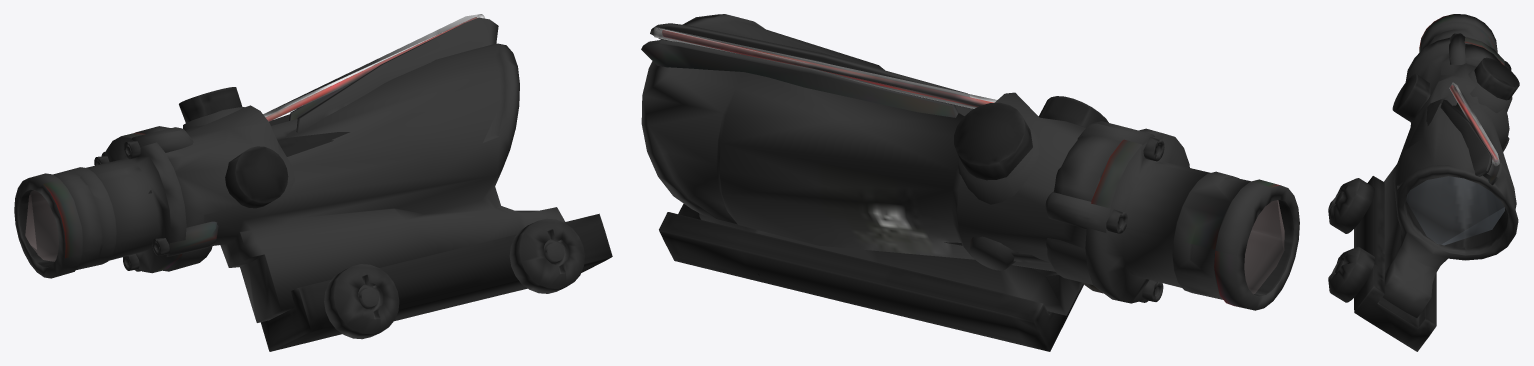
Rendered from acog.glb.
The picture shows the model from 3 angles, left to right: view 1: azimuth 30°, elevation 25°; view 2: azimuth 150°, elevation 25°; view 3: azimuth 270°, elevation 25°; orthographic projection. The views are drawn at different scales.
Parts seen in each view (by area): view 1: acog_acog_0, glass front_glass front_0; view 2: acog_acog_0, glass front_glass front_0; view 3: acog_acog_0, glass back_glass back_0.
Boxes of the visible parts, x1=… form: acog_acog_0: x1=14, y1=14, x2=612, y2=351; glass front_glass front_0: x1=25, y1=190, x2=58, y2=261; acog_acog_0: x1=641, y1=14, x2=1299, y2=351; glass front_glass front_0: x1=1244, y1=200, x2=1284, y2=293; acog_acog_0: x1=1328, y1=14, x2=1519, y2=351; glass back_glass back_0: x1=1406, y1=176, x2=1504, y2=245.
Bounding box in the file's own units: 3.5 × 1.56 × 1.5.
Materials: 4 (2 with a texture image).
